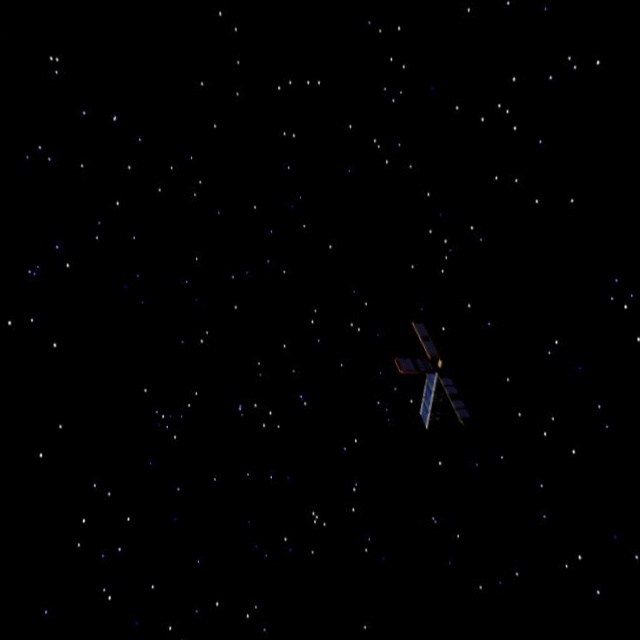satellite: (394, 320, 484, 449)
